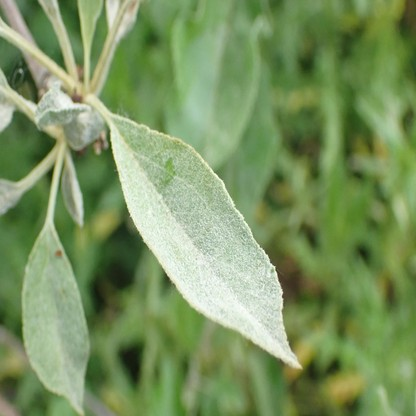powdery_mildew: (108, 110, 300, 369), (21, 228, 91, 414), (36, 83, 107, 147)
